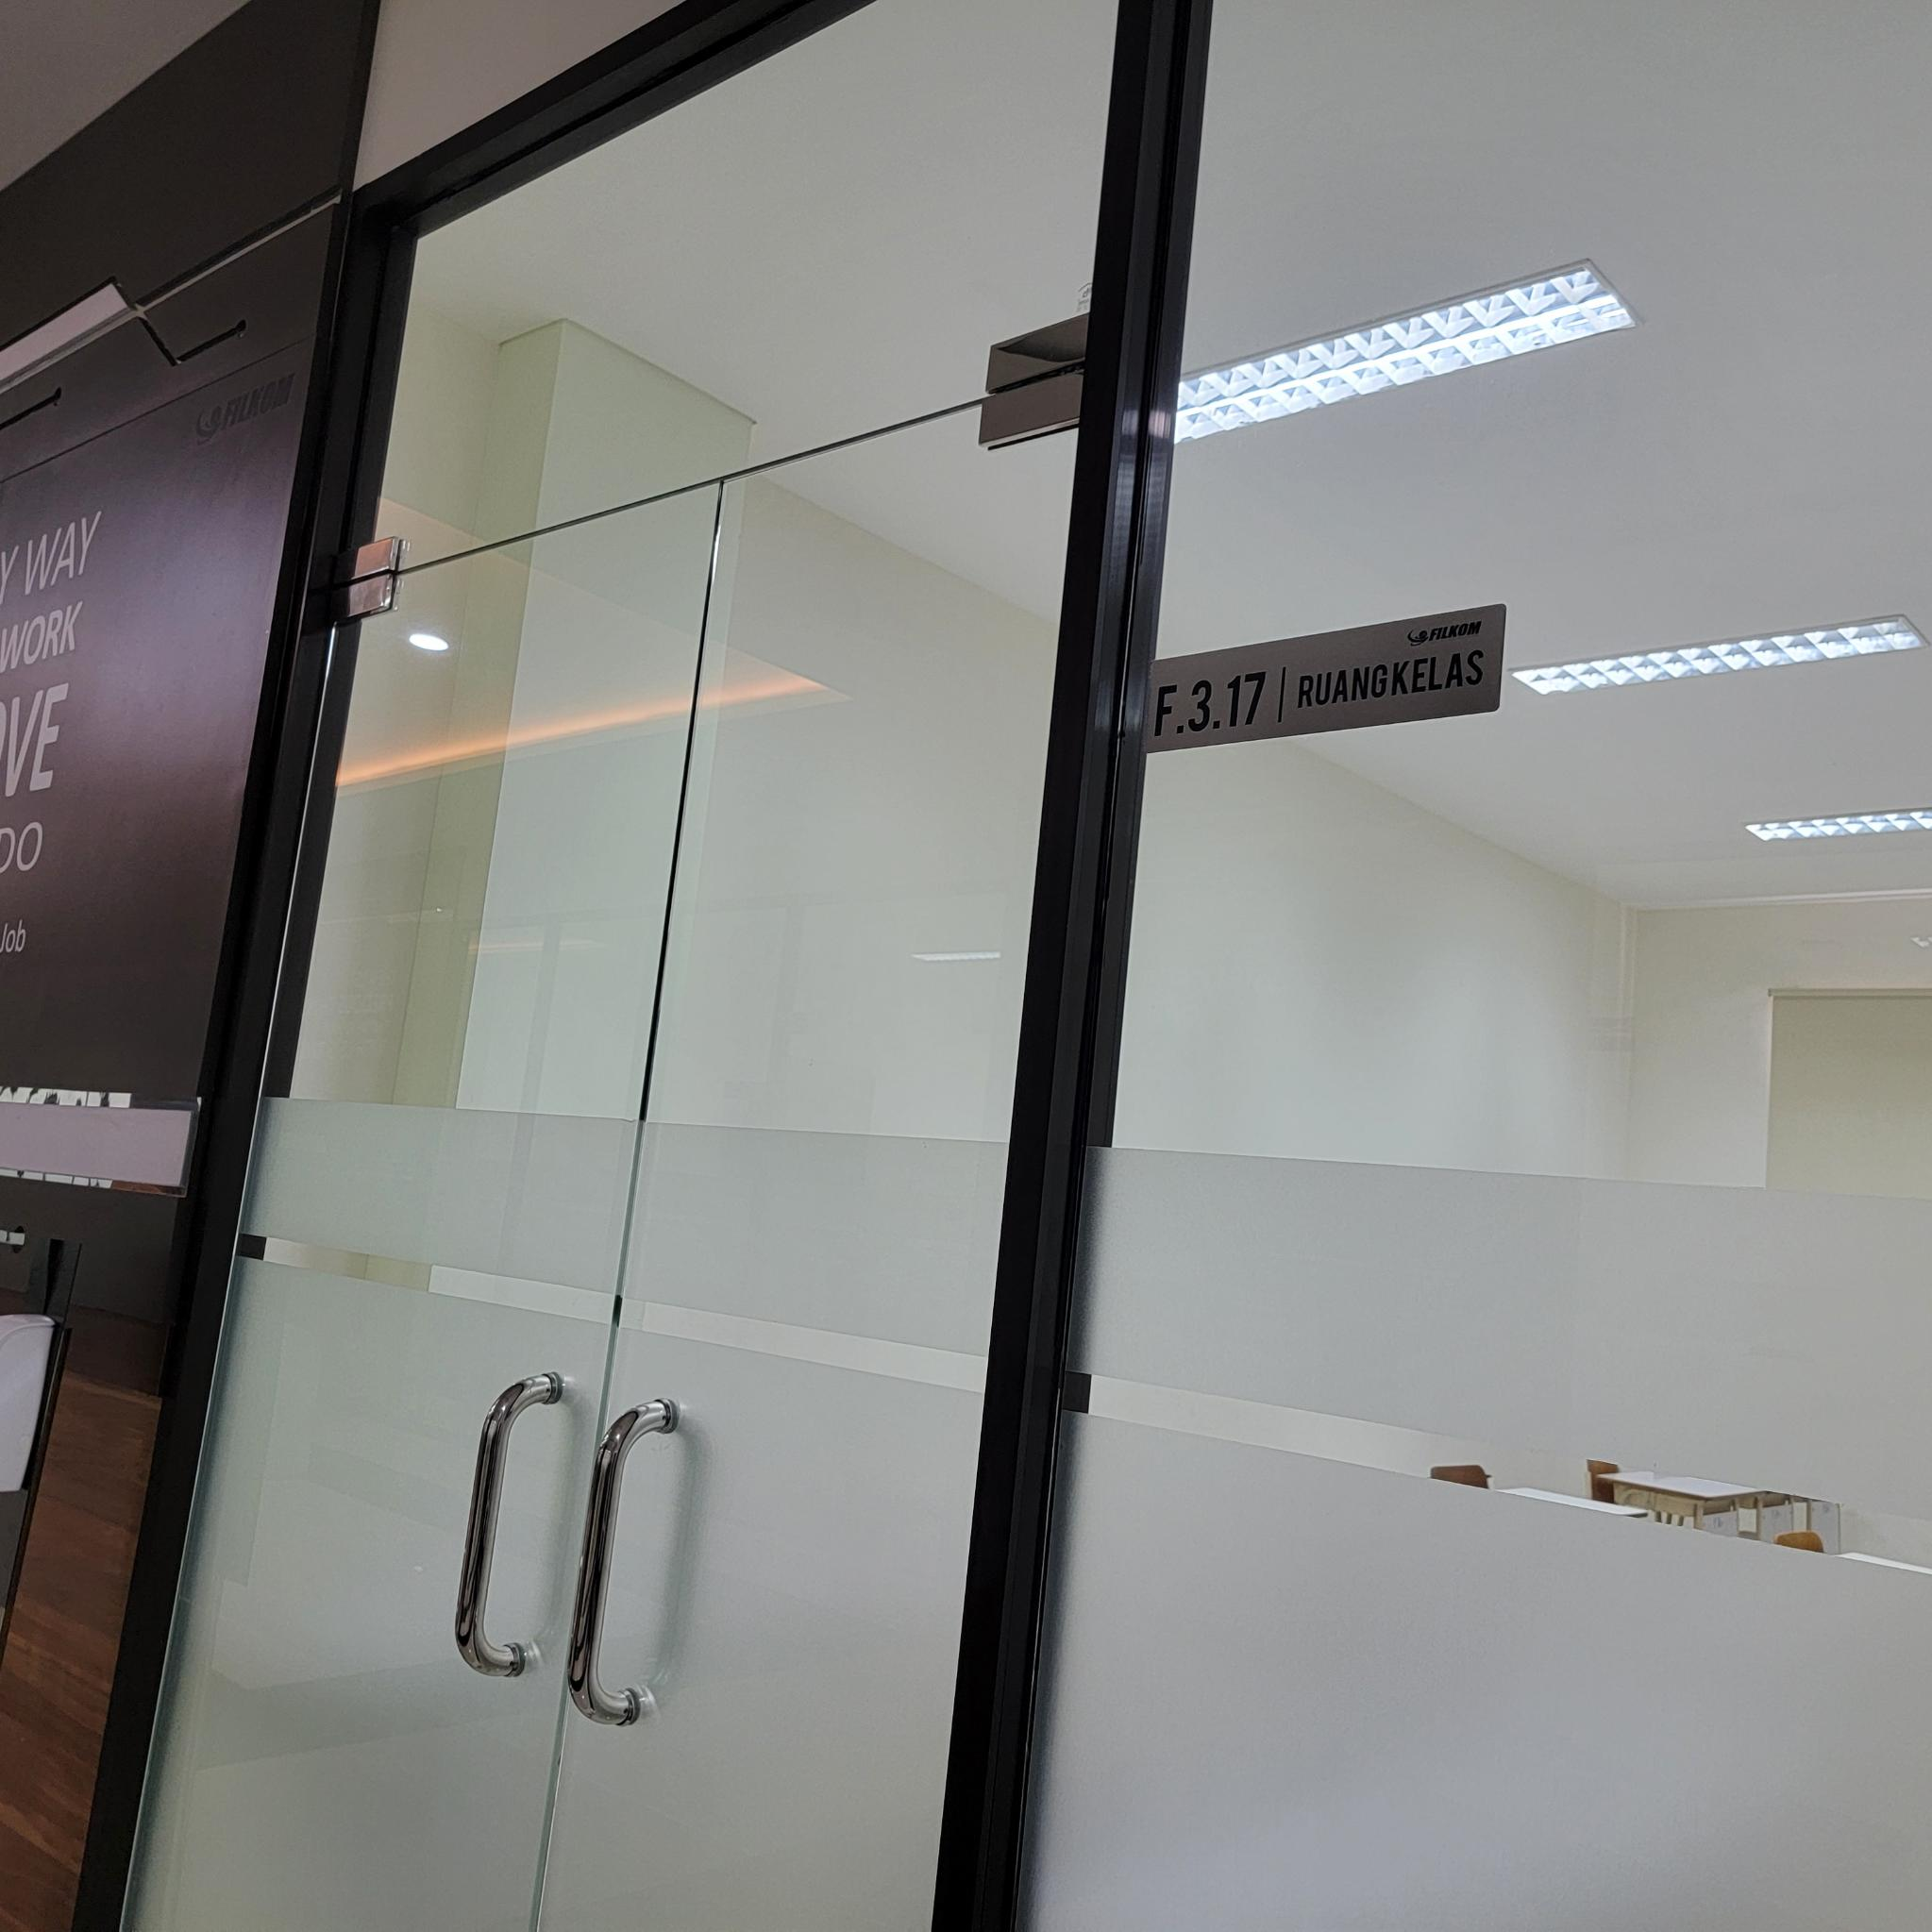plate: (1138, 603, 1507, 754)
